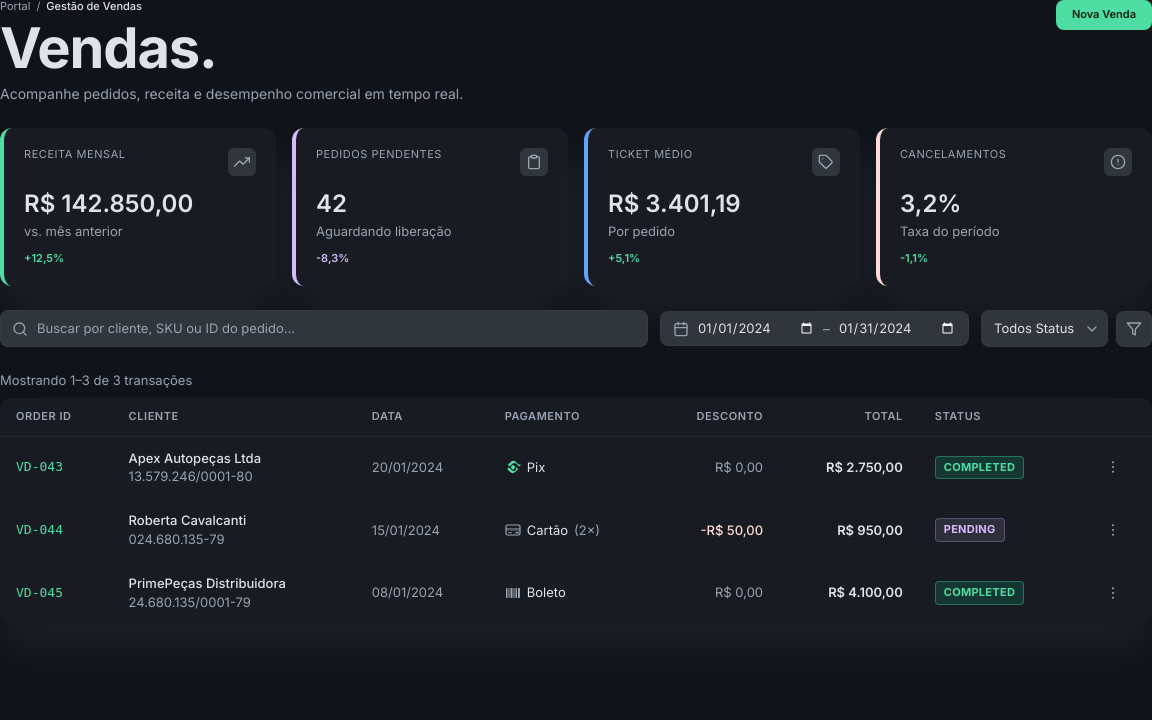
Test: SalesPage — 6.x Nova Venda + KPIs (integração) › 6.1 fechar modal remove o dialog da tela
Click the button "Nova Venda" at (1104, 15), box [1056,0,1151,30]
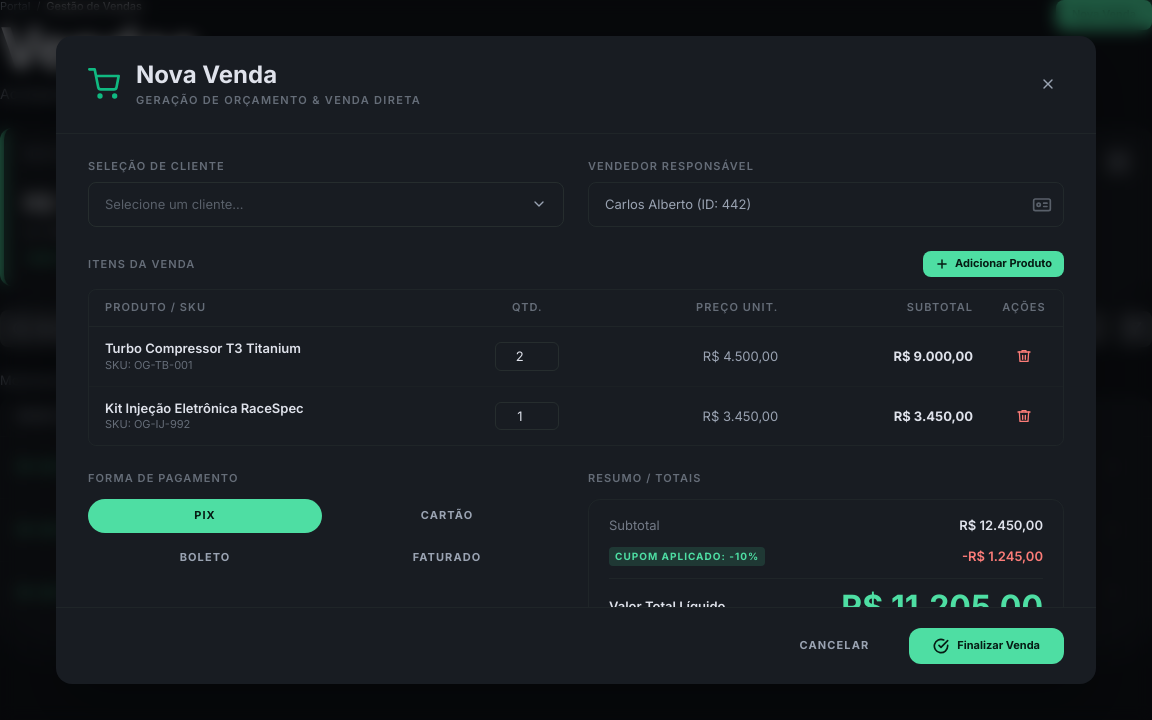
Now the dialog is shown
Click the button named "fechar modal" at (1048, 84), box [1032,68,1064,100]
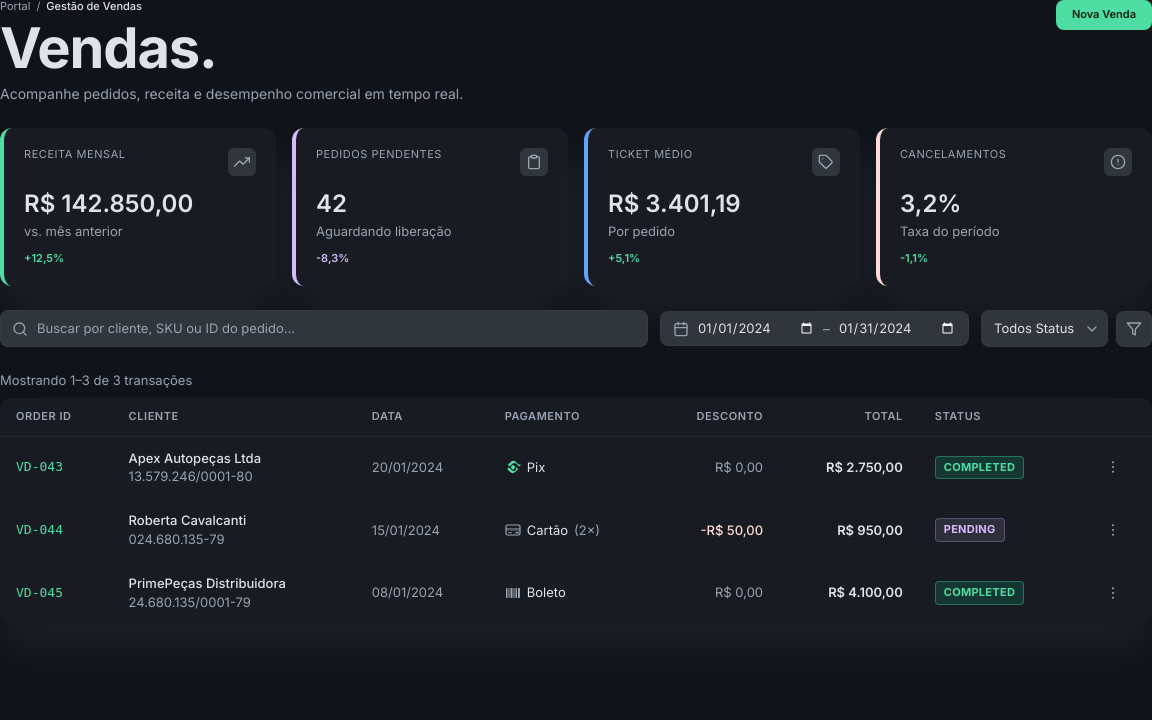
Now the dialog is gone
